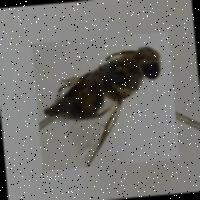Oriental-fruit-fly: (31, 32, 180, 171)
